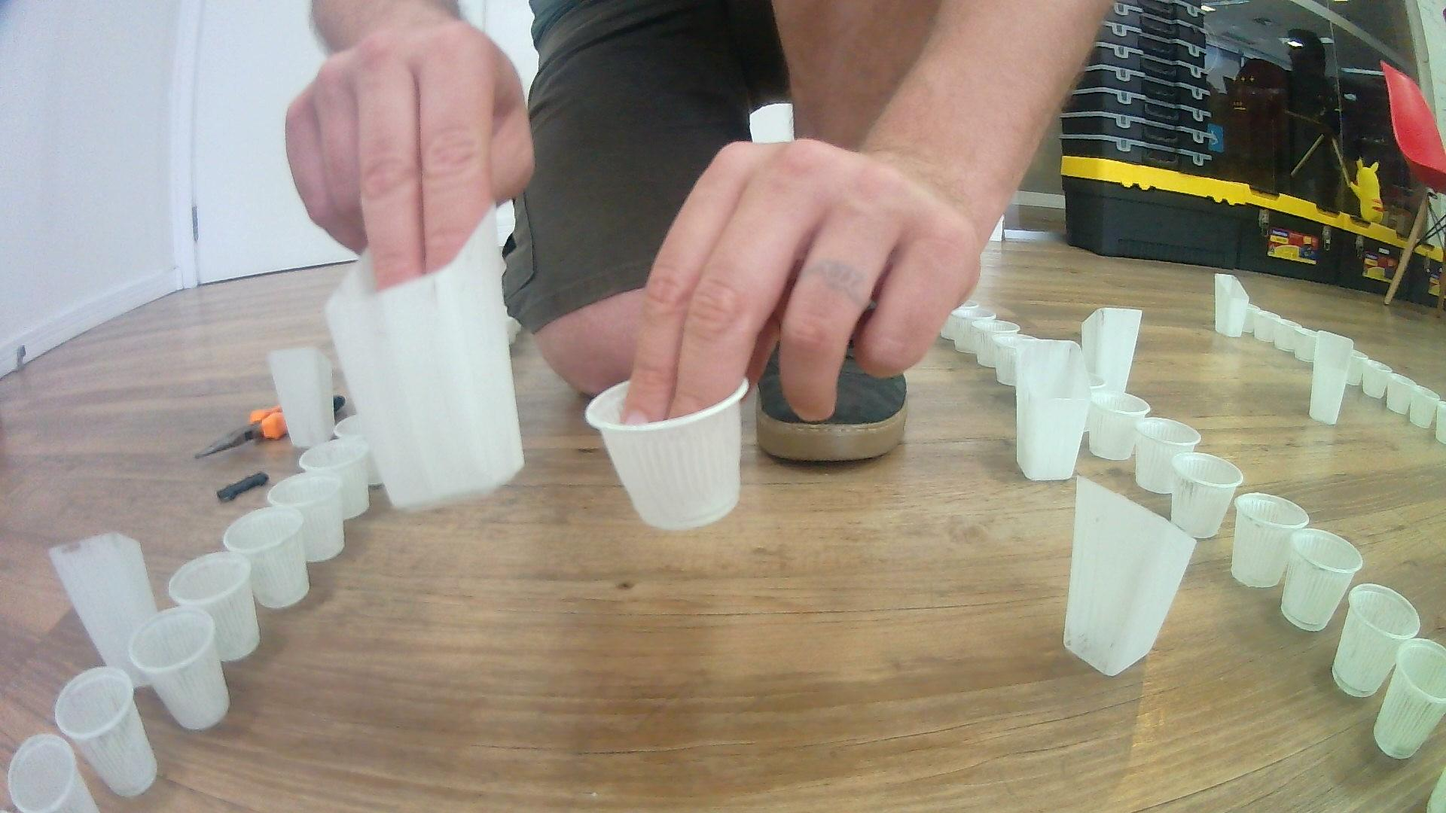erva_daninha: (322, 206, 527, 513), (1062, 474, 1200, 678), (42, 533, 158, 685), (1013, 337, 1094, 482), (265, 346, 336, 451), (1079, 306, 1144, 396), (1308, 330, 1353, 426), (1213, 273, 1249, 339)
planta: (584, 371, 751, 534), (54, 665, 158, 798), (127, 605, 231, 732), (167, 553, 261, 662), (1332, 583, 1420, 698), (221, 507, 311, 609), (1373, 638, 1446, 760), (1280, 529, 1364, 632), (6, 733, 101, 813), (1230, 493, 1309, 589), (265, 472, 346, 564), (1170, 450, 1244, 540), (297, 436, 371, 522), (1134, 416, 1202, 495), (1088, 392, 1152, 461), (334, 413, 387, 486), (971, 320, 1020, 368), (992, 333, 1032, 387), (954, 309, 996, 353), (940, 299, 978, 340), (1409, 386, 1442, 429), (1084, 373, 1108, 430), (1386, 374, 1418, 414), (1362, 360, 1392, 399), (1294, 325, 1318, 362), (1256, 309, 1282, 343), (1243, 304, 1268, 339), (1274, 318, 1299, 352), (1347, 349, 1369, 387), (1436, 402, 1446, 445)
